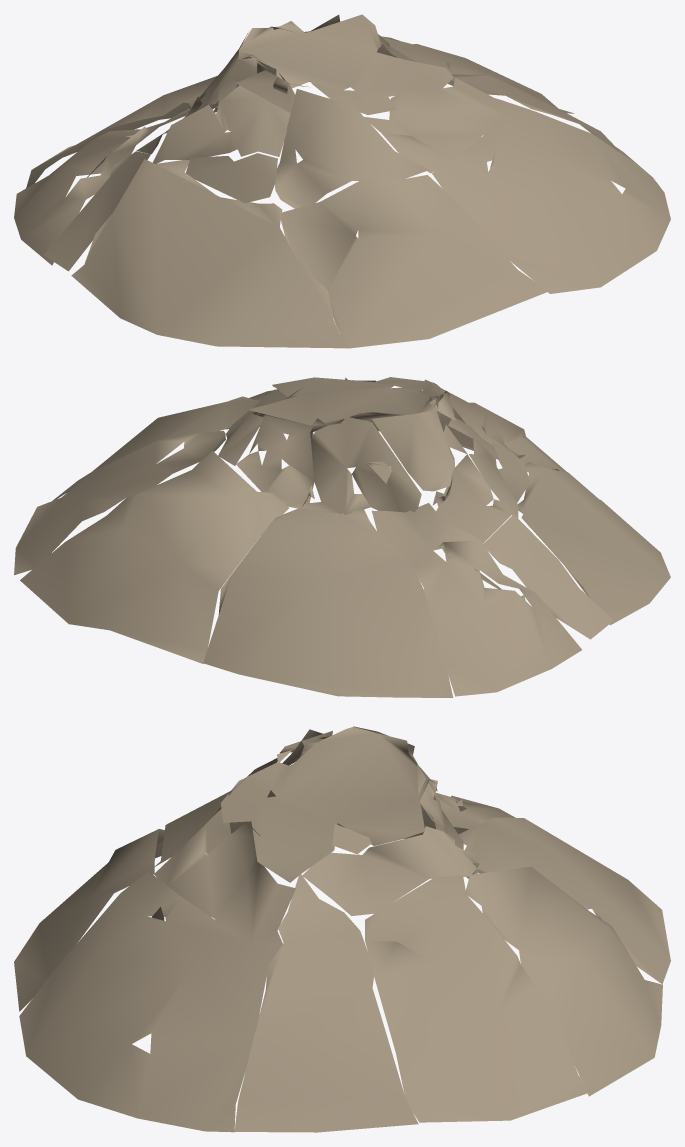
File: stump-mossy-lod1.glb
3 views of the same model, one above another, from view 1: azimuth 30°, elevation 25°; view 2: azimuth 150°, elevation 25°; view 3: azimuth 270°, elevation 25° (orthographic). The views are drawn at different scales.
Parts seen in each view (by area): view 1: stump-mossy; view 2: stump-mossy; view 3: stump-mossy.
Boxes of the visible parts, x1,y1,x2,y2 form: stump-mossy: (14,14,670,348); stump-mossy: (14,377,670,697); stump-mossy: (14,726,670,1132).
Bounding box in the file's own units: 1.53 × 0.514 × 1.39.
